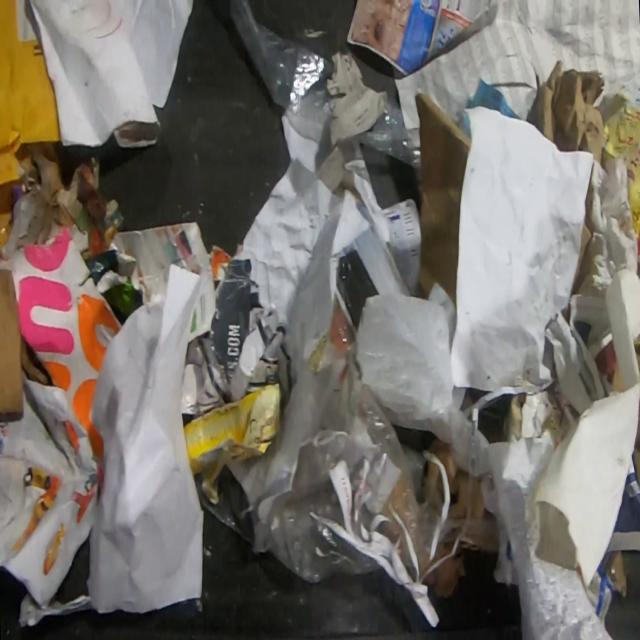cardboard: (0, 0, 62, 250), (181, 379, 283, 506), (414, 89, 470, 307), (532, 59, 604, 166), (0, 268, 51, 416), (571, 220, 593, 296), (597, 549, 628, 599)
soft_plastic: (197, 344, 508, 584), (227, 0, 338, 129), (344, 97, 421, 170)
